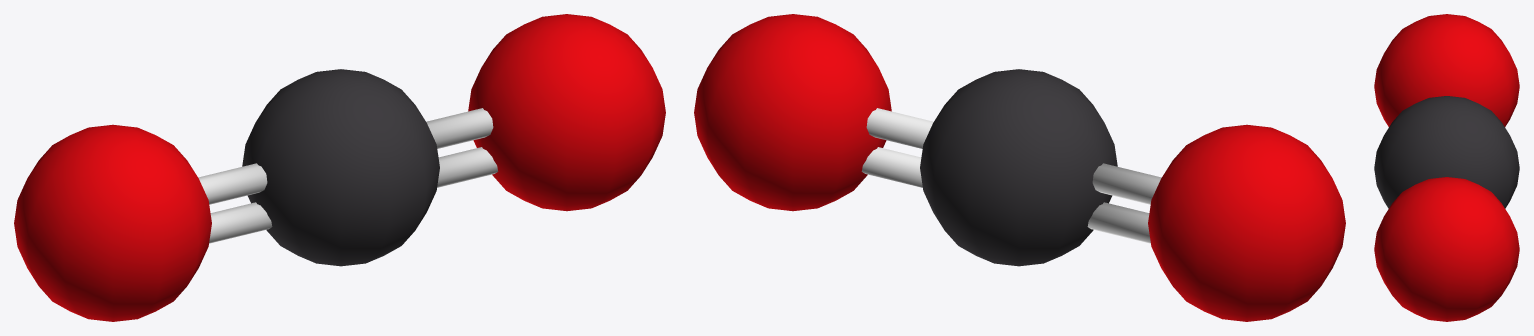
The model's file is molecula_co2.fbx.
3 renders of one model, left to right at view 1: azimuth 30°, elevation 25°; view 2: azimuth 150°, elevation 25°; view 3: azimuth 270°, elevation 25°, orthographic. The views are drawn at different scales.
Visible parts, largest first — view 1: Sphere, Sphere.002, Sphere.001, Cylinder.004, Cylinder.001, Cylinder.003, Cylinder.002; view 2: Sphere, Sphere.002, Sphere.001, Cylinder.004, Cylinder.001, Cylinder.003, Cylinder.002; view 3: Sphere.001, Sphere, Sphere.002.
Boxes of the visible parts, <box> form: Sphere: <box>14,124,211,321</box>; Sphere.002: <box>242,69,439,266</box>; Sphere.001: <box>468,14,665,211</box>; Cylinder.004: <box>198,163,267,204</box>; Cylinder.001: <box>426,108,493,148</box>; Cylinder.003: <box>209,202,272,243</box>; Cylinder.002: <box>437,147,498,187</box>; Sphere: <box>1148,124,1345,321</box>; Sphere.002: <box>920,69,1117,266</box>; Sphere.001: <box>694,14,891,211</box>; Cylinder.004: <box>1092,163,1161,204</box>; Cylinder.001: <box>866,108,933,148</box>; Cylinder.003: <box>1087,202,1150,243</box>; Cylinder.002: <box>861,147,922,187</box>; Sphere.001: <box>1374,177,1519,321</box>; Sphere: <box>1374,14,1519,126</box>; Sphere.002: <box>1374,96,1519,208</box>.
Size of the model in its own units: 729 by 200 by 200.
